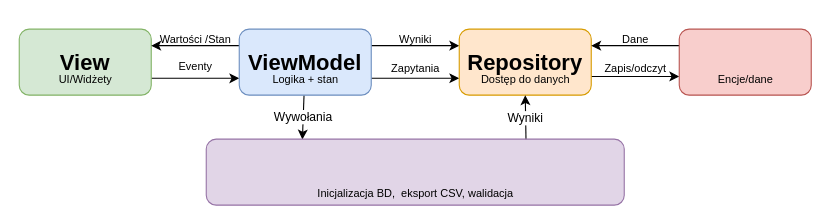
Image size: 831x224. Some labels were removed from this diagram. Here are the shapes that lost their labels. From the top down, the box of each, then its label:
(678, 28, 811, 95): Model
(205, 138, 624, 205): Services
